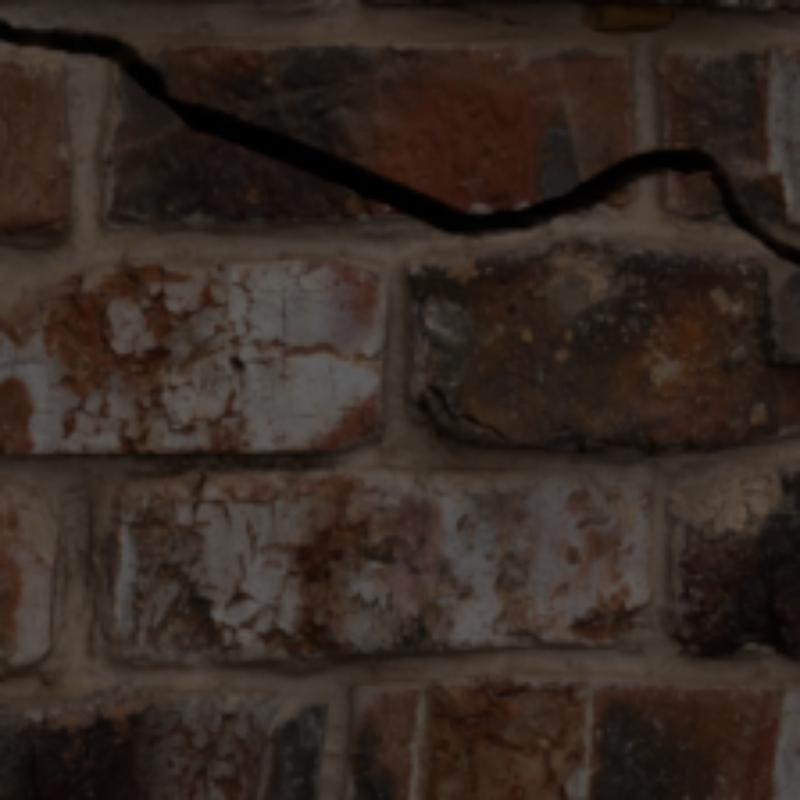crack: (0, 21, 796, 264)
